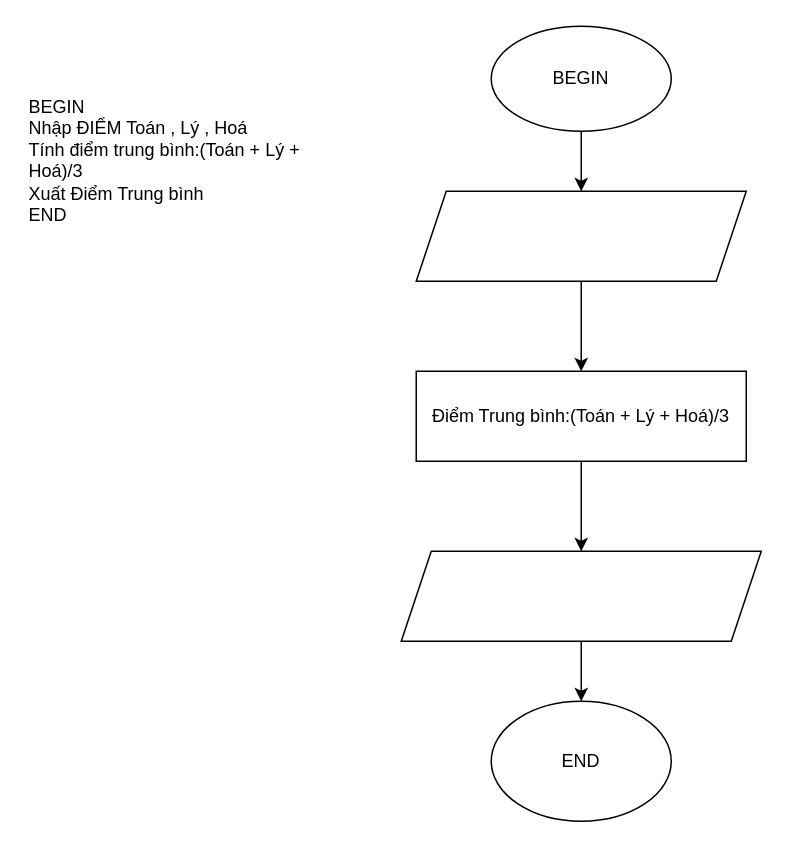
The diagram is 788 pixels wide and 848 high, and some of its shapes have lost their labels. The shapes that lost their labels are listed below. From the top down, each one's box as (x1, y1, x2, y2) in pixels, then its label:
(415, 190, 746, 281): INPUT điểm Toán , Lý , Hoá
(400, 550, 761, 641): OUTPUT:Điểm Trung Bình
